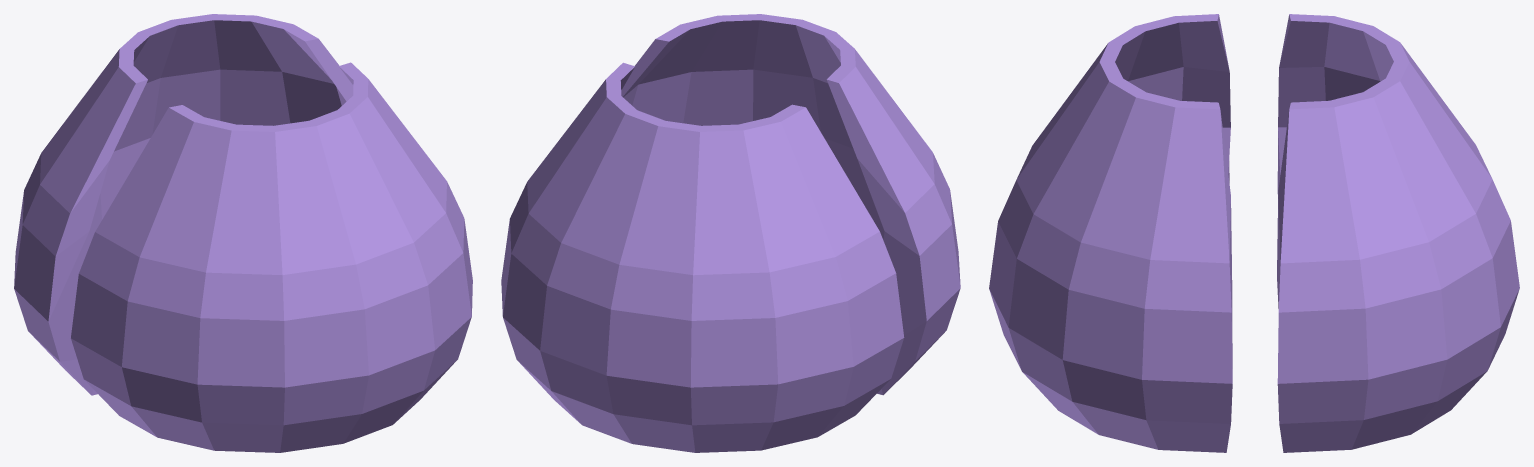
Rendered from Vase_livingroom_Cut.fbx.
The picture shows the model from 3 angles, left to right: view 1: azimuth 30°, elevation 25°; view 2: azimuth 150°, elevation 25°; view 3: azimuth 270°, elevation 25°; orthographic projection. The views are drawn at different scales.
Visible parts, largest first — view 1: Cylinder.000, Cylinder.001; view 2: Cylinder.001, Cylinder.000; view 3: Cylinder.000, Cylinder.001.
Part boxes in pixels (x1,y1,x2,y2): Cylinder.000: (71, 62, 472, 452); Cylinder.001: (14, 14, 353, 395); Cylinder.001: (501, 62, 904, 452); Cylinder.000: (621, 14, 960, 395); Cylinder.000: (989, 14, 1232, 452); Cylinder.001: (1277, 14, 1519, 452).
Size of the model in its own units: 1388 by 1075 by 1621.
